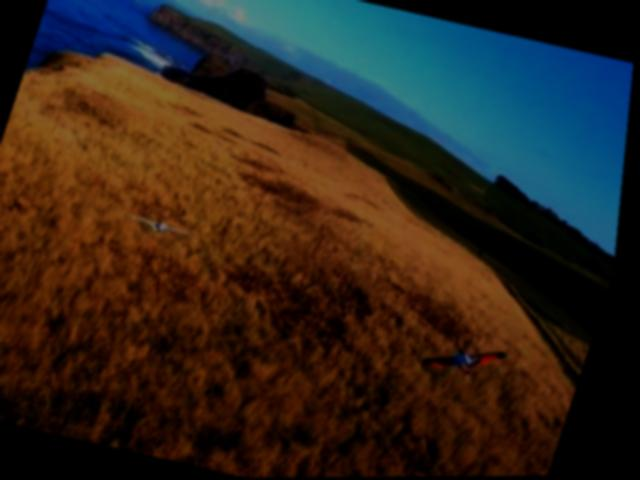uav: (424, 333, 518, 391)
